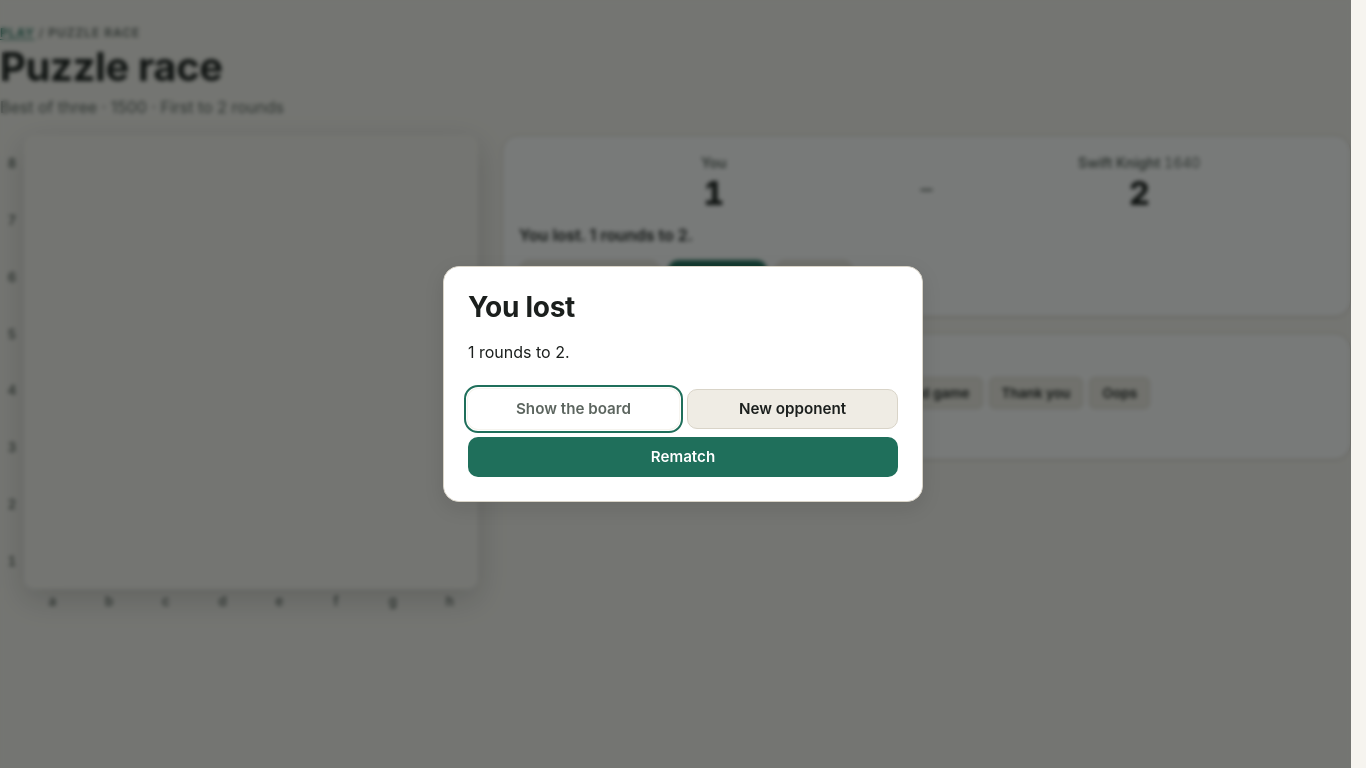
Scenario: DuelPage › says in the result why a rematch was refused
The width and height of the screenshot is (1366, 768).
Click the button "Rematch" at (683, 457), box [468, 437, 898, 477]
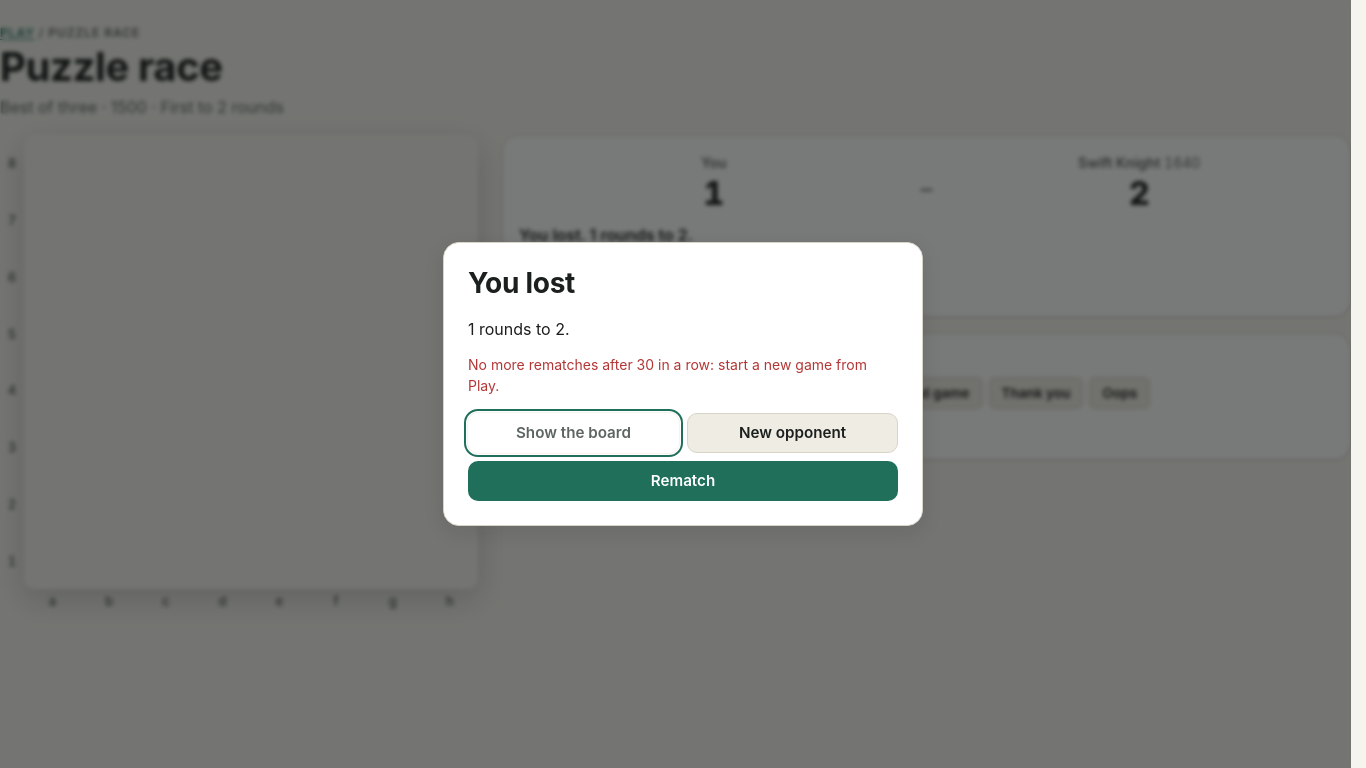
Expected: the message reads "No more rematches after 30 in a row: start a new game from Play.", [468, 356, 867, 394]
